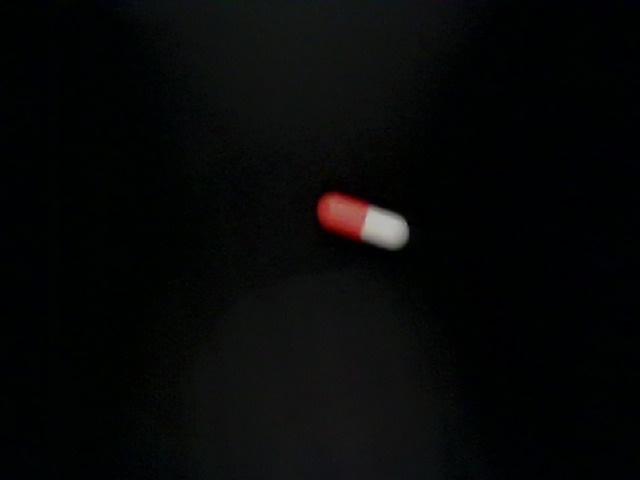YHLJ: (559, 169, 640, 414)
